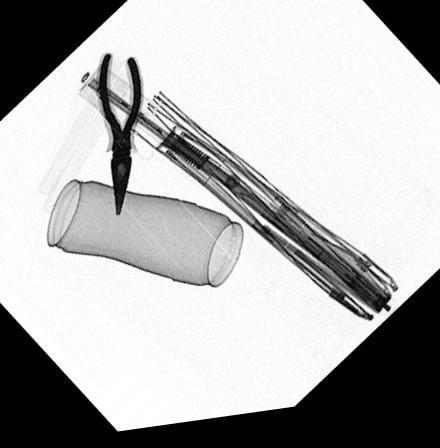Pliers: (97, 54, 144, 221)
